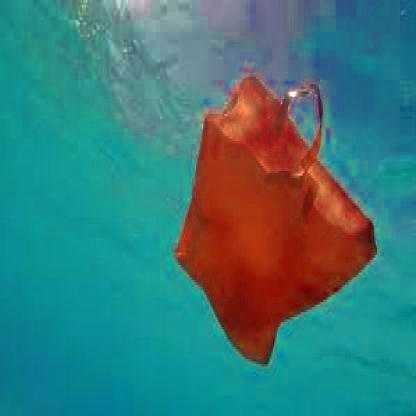pbag: (172, 74, 380, 372)
